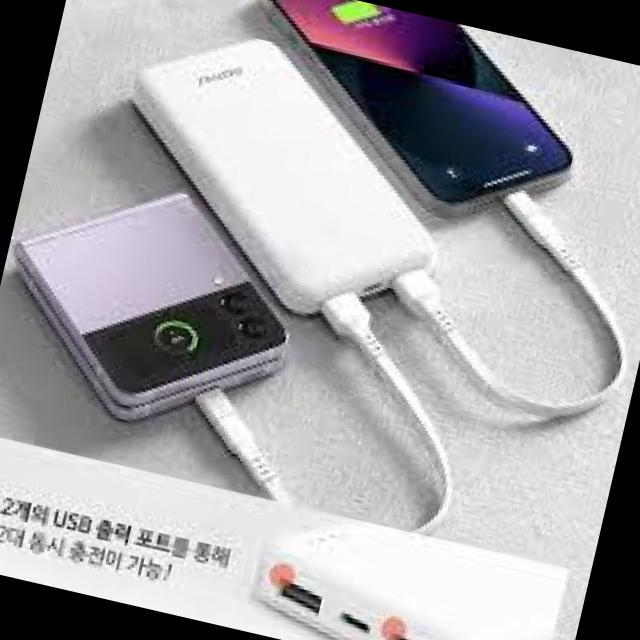power_bank: (89, 12, 482, 342)
